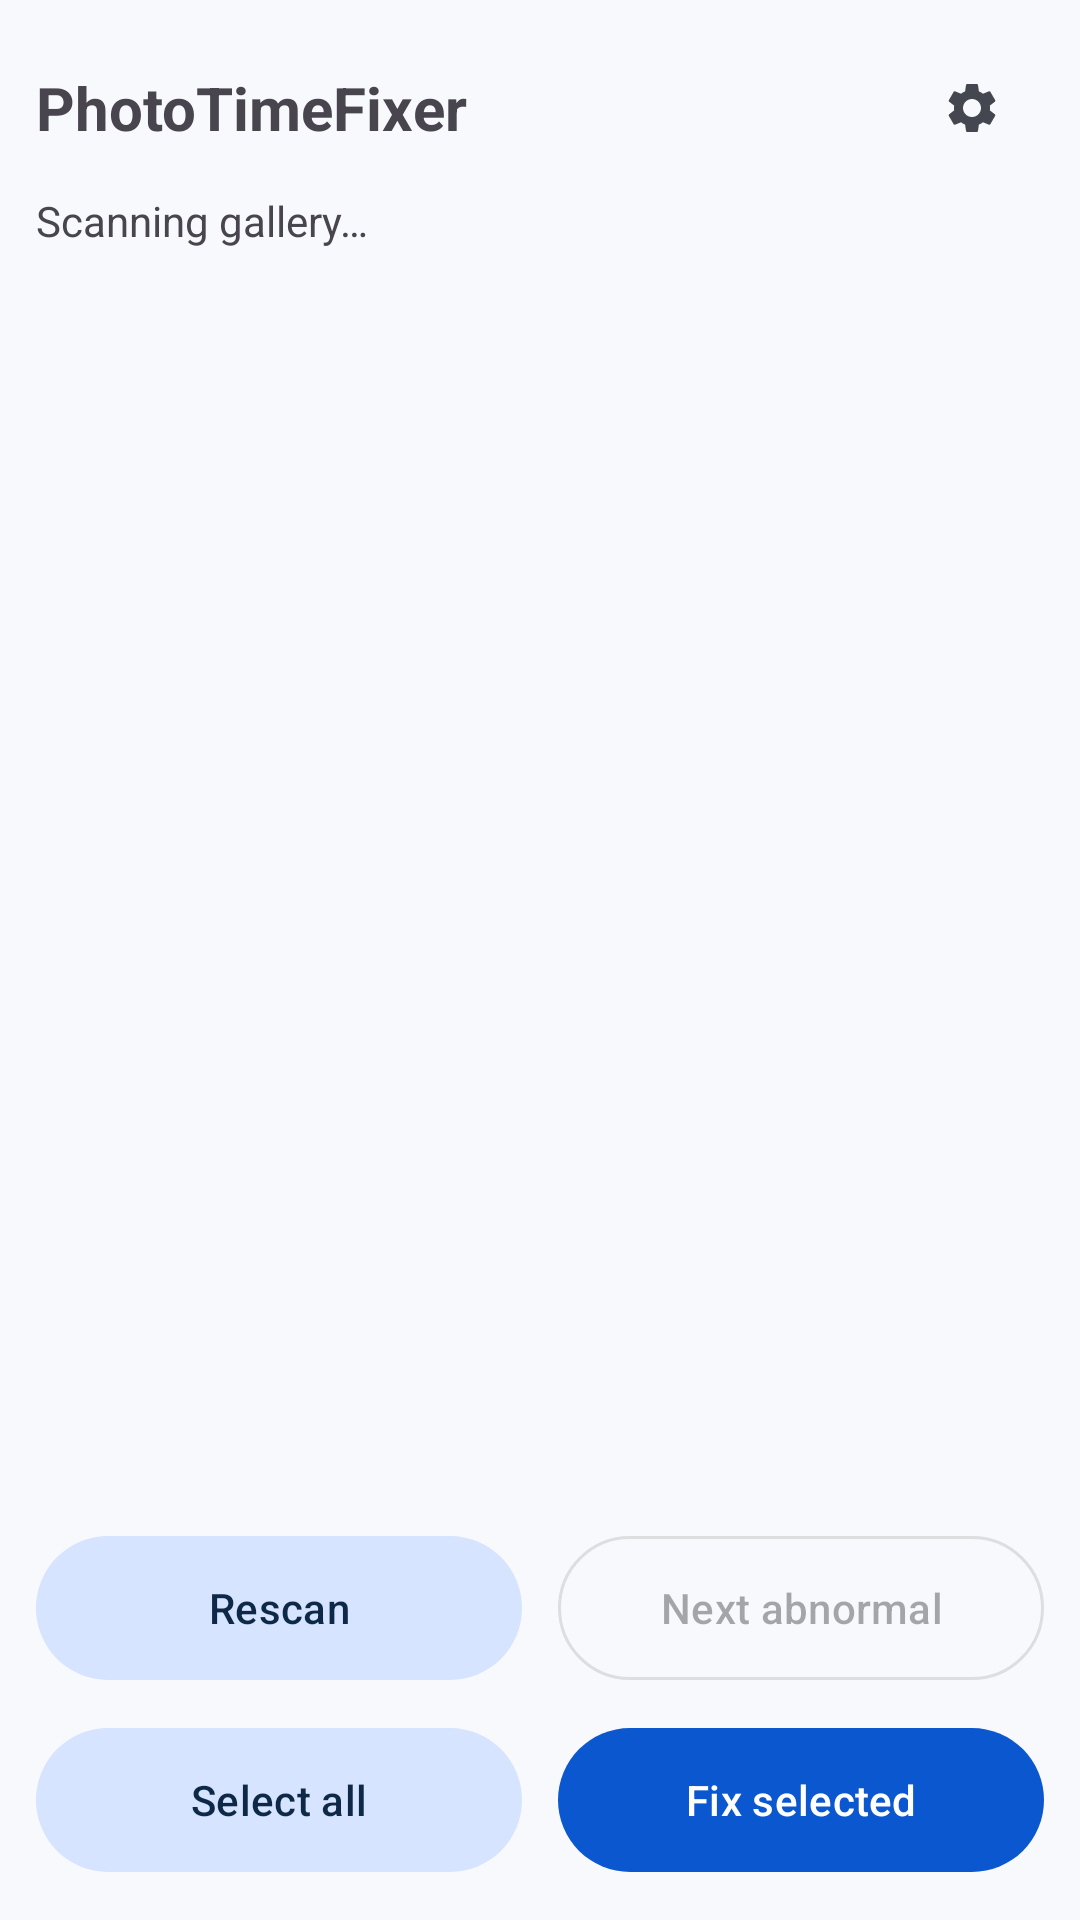

Icon bounding boxes for this 1080px×1920px phone screenshot, format (x1, y1, x2, y2):
Settings: (948, 84, 996, 132)
